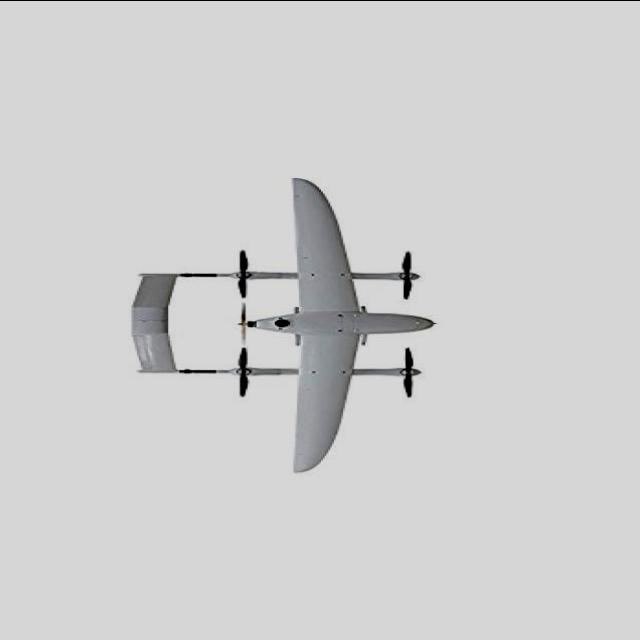plane: (129, 175, 436, 473)
